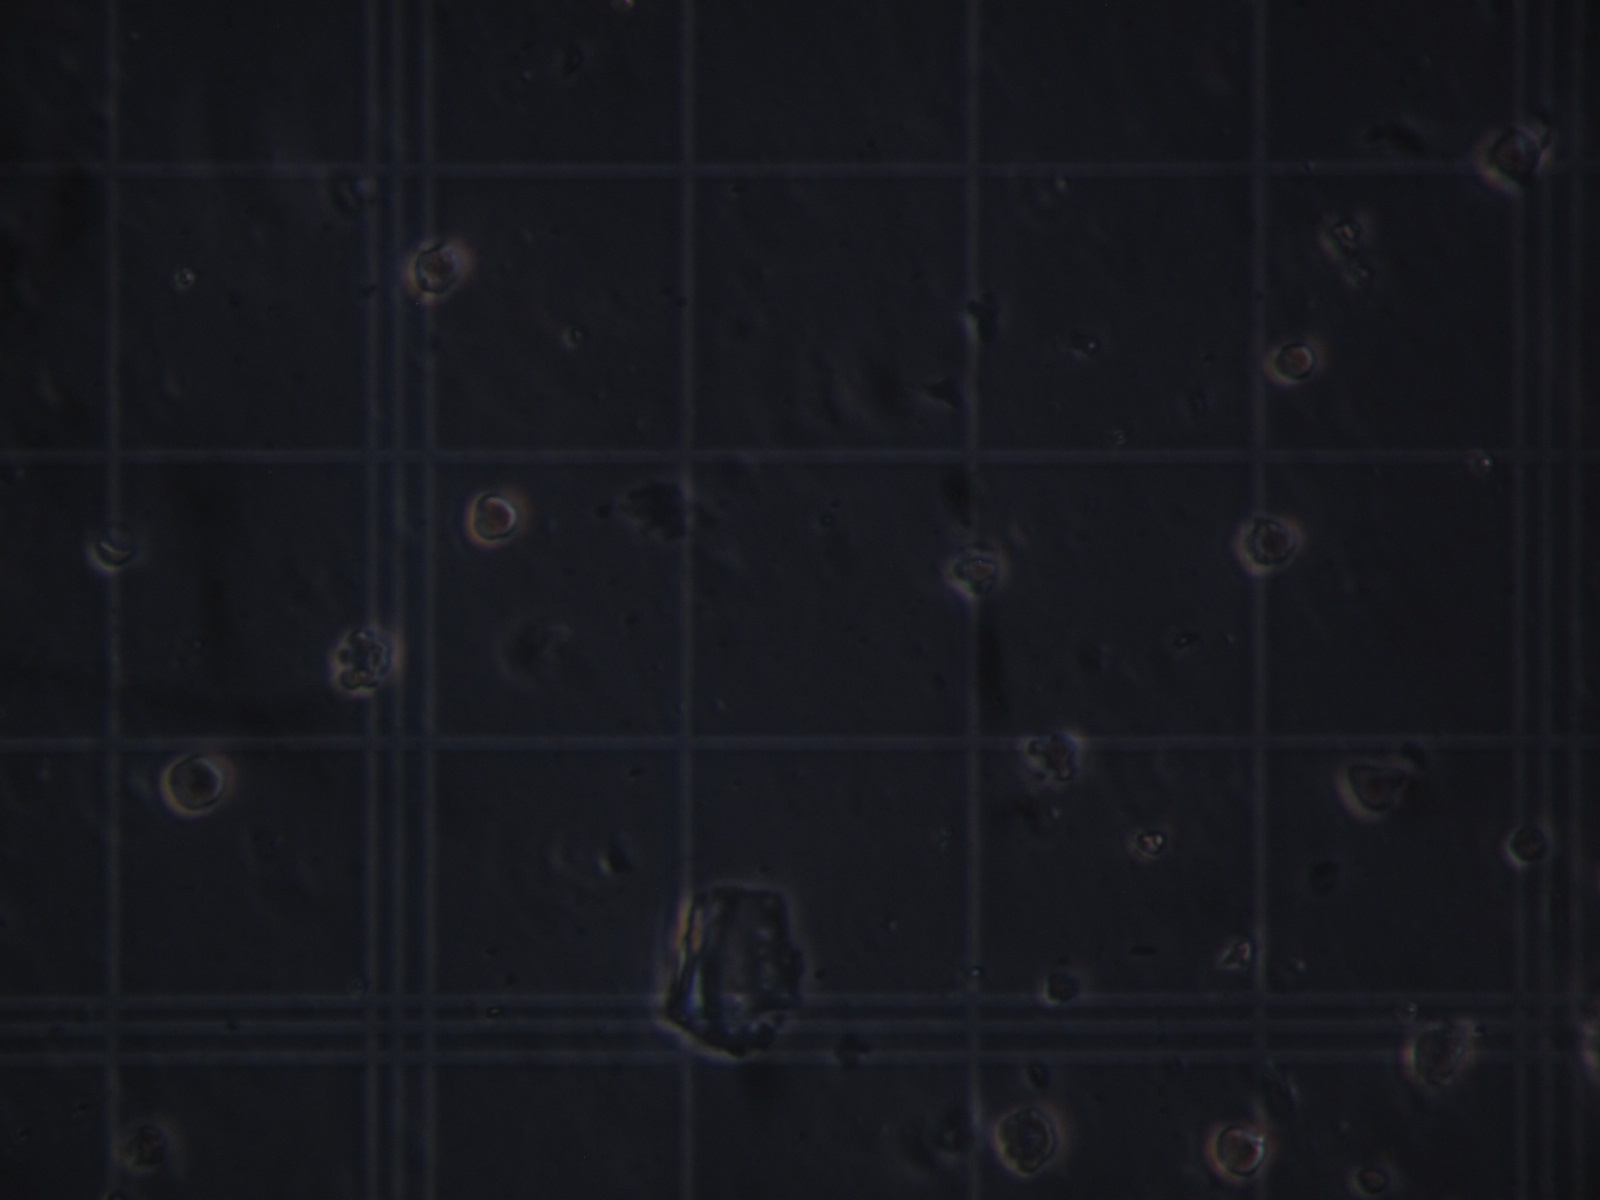hemo: (1332, 754, 1416, 824), (1471, 124, 1548, 198), (330, 624, 404, 700), (160, 750, 239, 821), (991, 1104, 1071, 1174), (403, 234, 477, 306), (1231, 511, 1305, 580), (1403, 1017, 1475, 1088), (464, 487, 532, 550), (1206, 1121, 1275, 1177), (1015, 729, 1086, 784), (1262, 333, 1330, 389), (944, 546, 1009, 597), (1504, 821, 1556, 867), (1043, 967, 1089, 1005)
